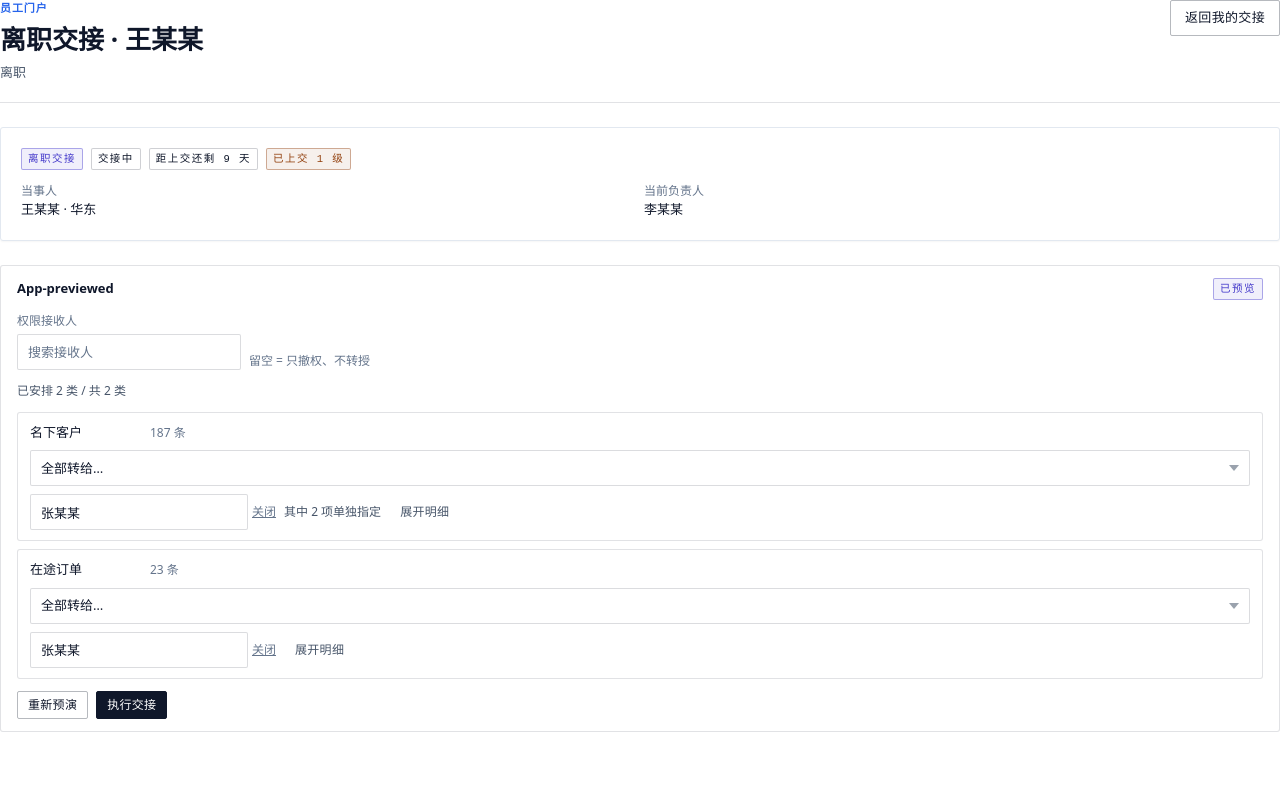
Test case: PortalHandoverDetail › 执行前二次确认文案含数量与接收人
This screenshot has width=1280, height=800.
Click the button "执行交接": point(132, 705) [96,691,167,719]
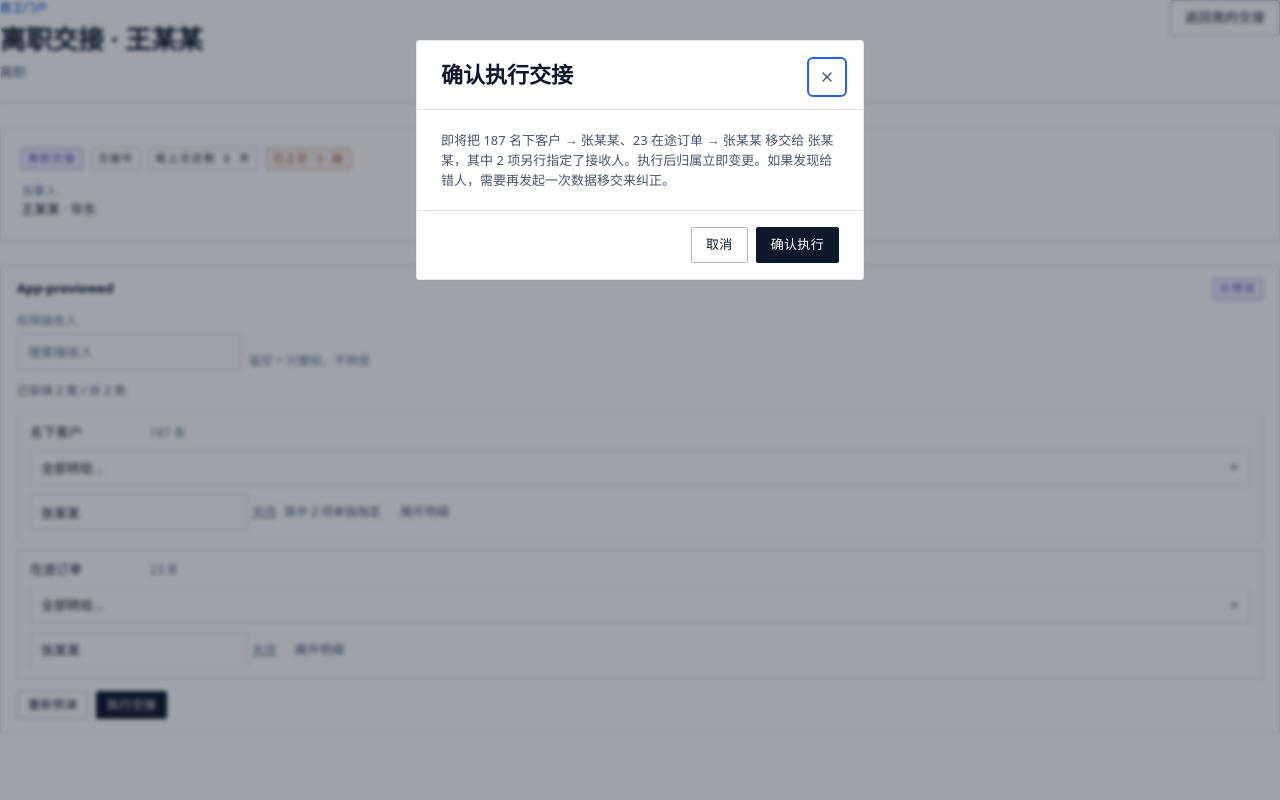
Check: the text with test id "execute-confirm-body" shows "187", box [441,131,834,189]
Check: the text with test id "execute-confirm-body" shows "名下客户", box [441,131,834,189]
Check: the text with test id "execute-confirm-body" shows "张某某", box [441,131,834,189]
